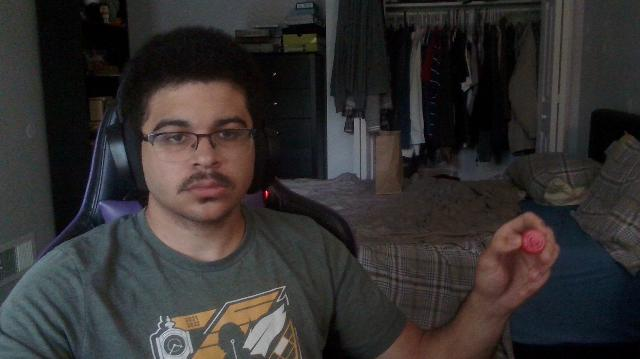cap: (522, 230, 546, 255)
